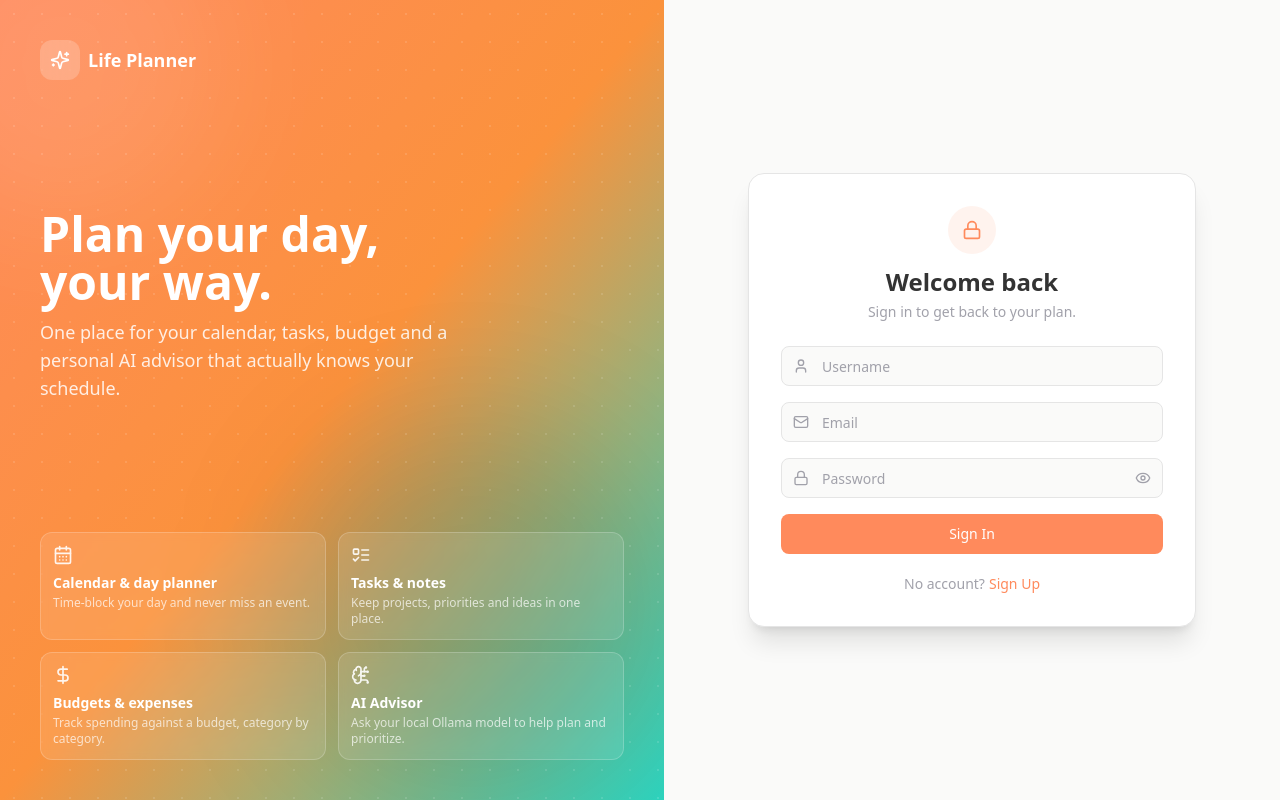
Scenario: Login page › switches to the sign-up form when 'Sign Up' is clicked
What coordinates should you click on to do the following:
click the button "Sign Up"
I would click on:
 (1014, 584)
Its box is [989,574,1040,594].
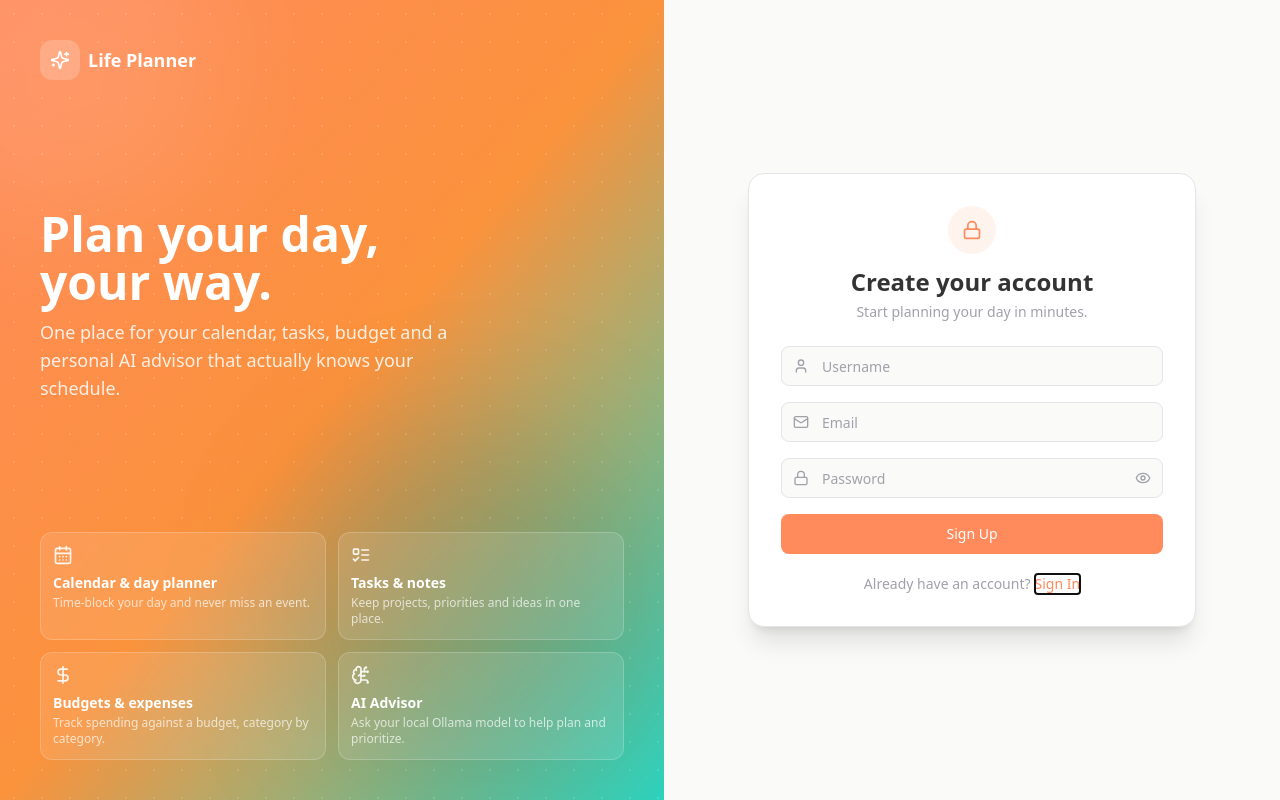
Now the heading "Create your account" is shown, box [851,266,1093,298]
